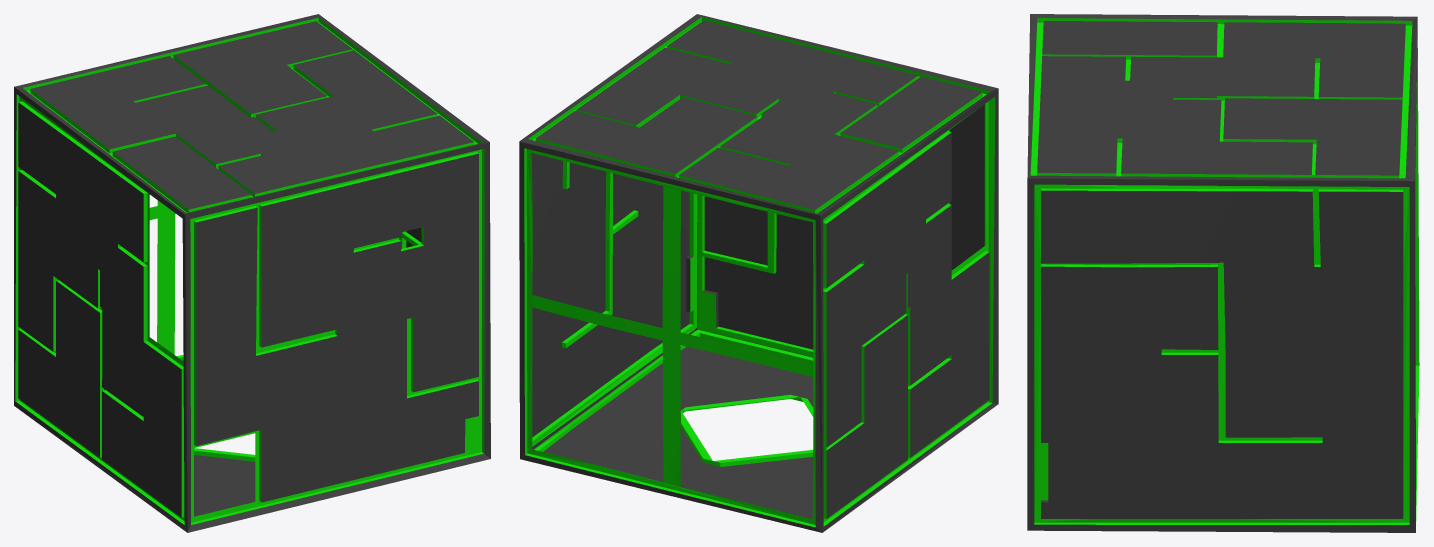
3 renders of one model, left to right at view 1: azimuth 30°, elevation 25°; view 2: azimuth 150°, elevation 25°; view 3: azimuth 270°, elevation 25°, orthographic. The views are drawn at different scales.
Parts seen in each view (by area): view 1: Cube; view 2: Cube; view 3: Cube.
Part boxes in pixels (x1,y1,x2,y2): Cube: [14, 14, 490, 532]; Cube: [519, 14, 998, 532]; Cube: [1027, 14, 1419, 532].
Bounding box in the file's own units: 30.35 × 30.13 × 30.28.
